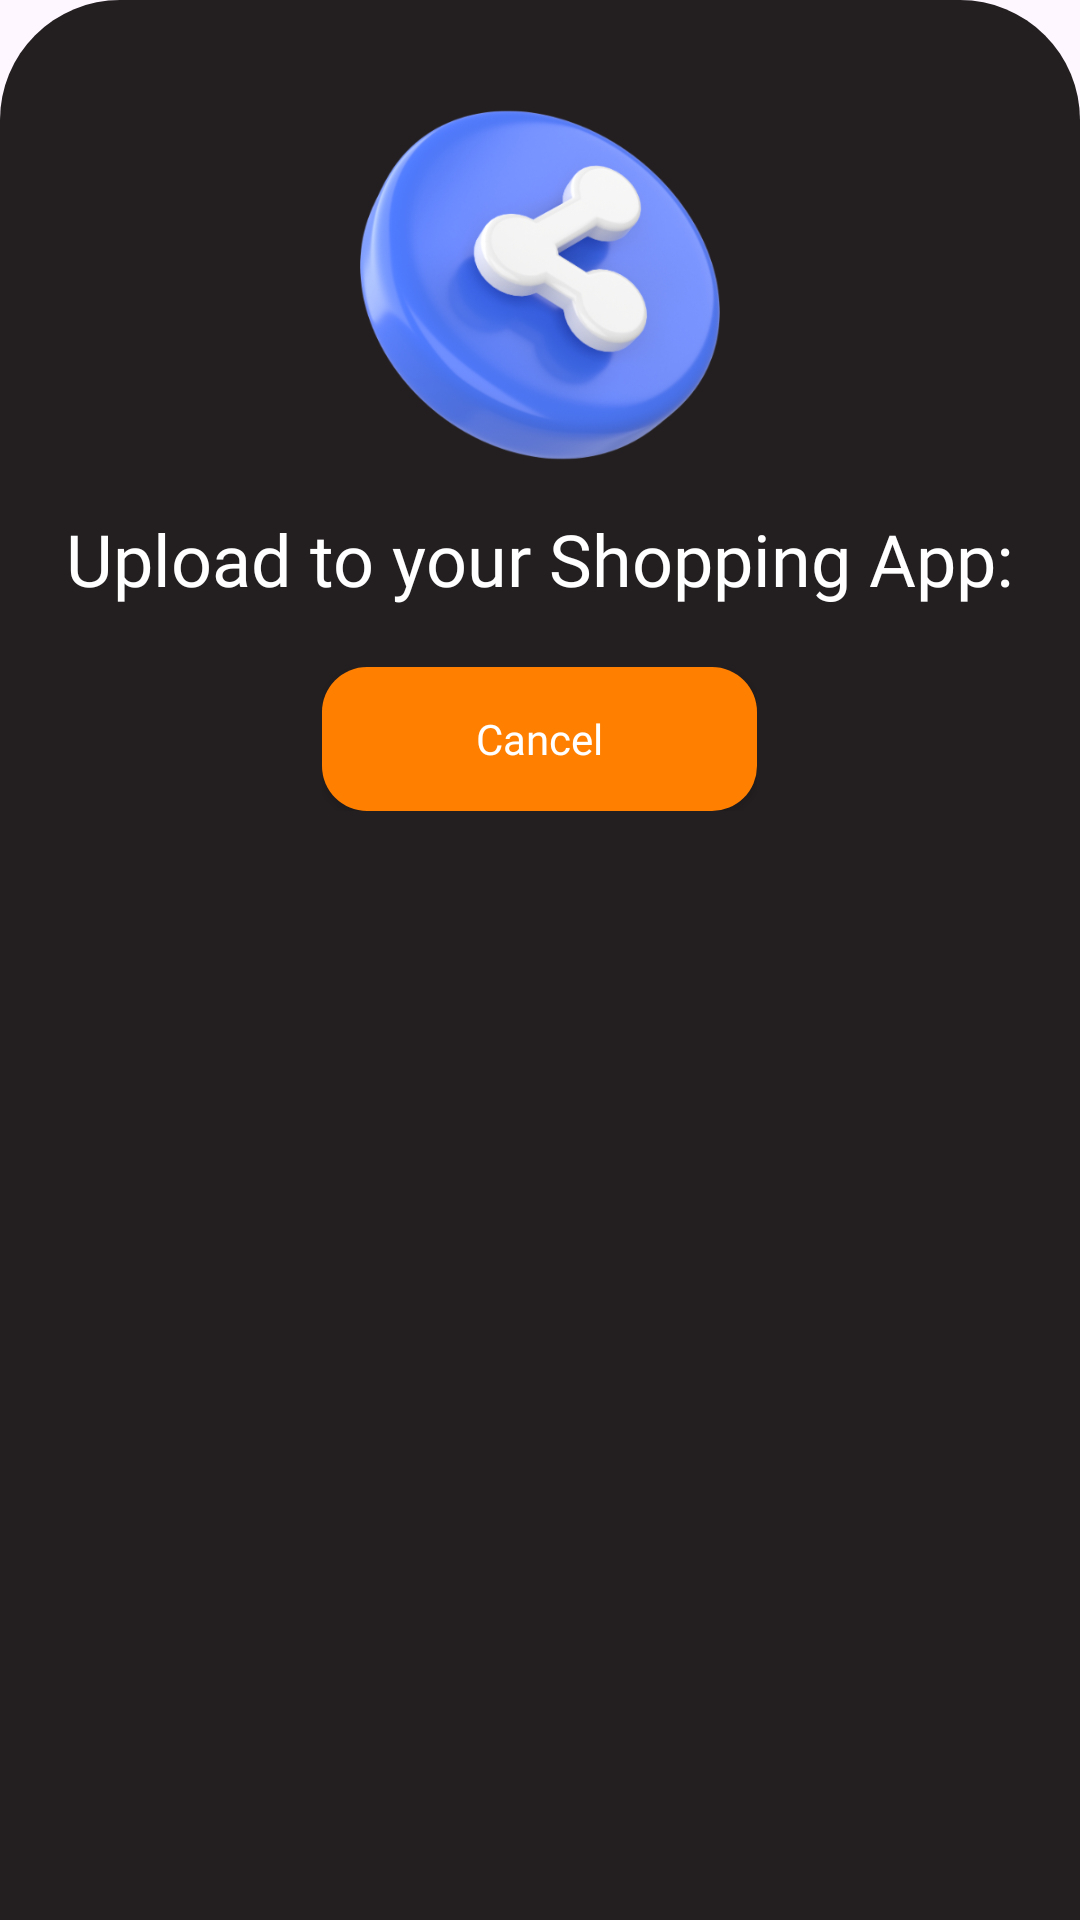

Icons on this 1080*1920 Android screen, each with the point to tap as (x,y):
share: (540,284)
